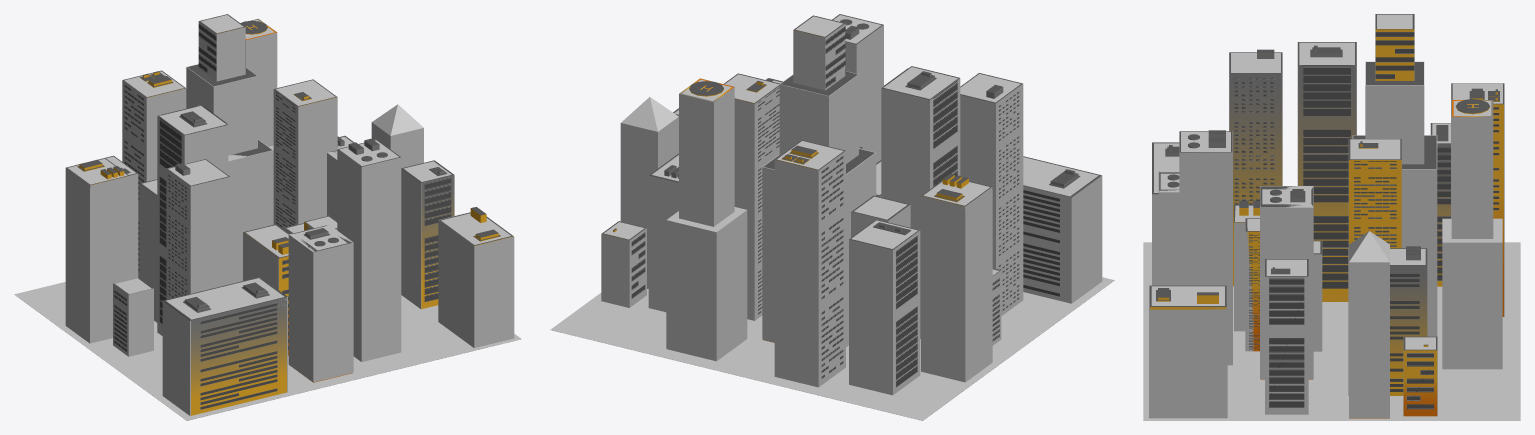
The model's file is Mobile_Level4.FBX.
3 renders of one model, left to right at view 1: azimuth 30°, elevation 25°; view 2: azimuth 150°, elevation 25°; view 3: azimuth 270°, elevation 25°, orthographic. The views are drawn at different scales.
Visible parts, largest first — view 1: NetworkLandscape4, MobileLevel4_WINDOWS, MobileLevel4; view 2: NetworkLandscape4, MobileLevel4_WINDOWS, MobileLevel4; view 3: NetworkLandscape4, MobileLevel4_WINDOWS, MobileLevel4.
Boxes of the visible parts, x1,y1,x2,y2 form: NetworkLandscape4: [14, 14, 521, 420]; MobileLevel4_WINDOWS: [65, 19, 473, 409]; MobileLevel4: [16, 14, 520, 420]; NetworkLandscape4: [550, 14, 1114, 420]; MobileLevel4_WINDOWS: [631, 14, 1059, 387]; MobileLevel4: [552, 14, 1114, 420]; NetworkLandscape4: [1143, 14, 1520, 420]; MobileLevel4_WINDOWS: [1149, 32, 1501, 418]; MobileLevel4: [1150, 14, 1503, 418].
Size of the model in its own units: 11988 by 9477 by 10705.
